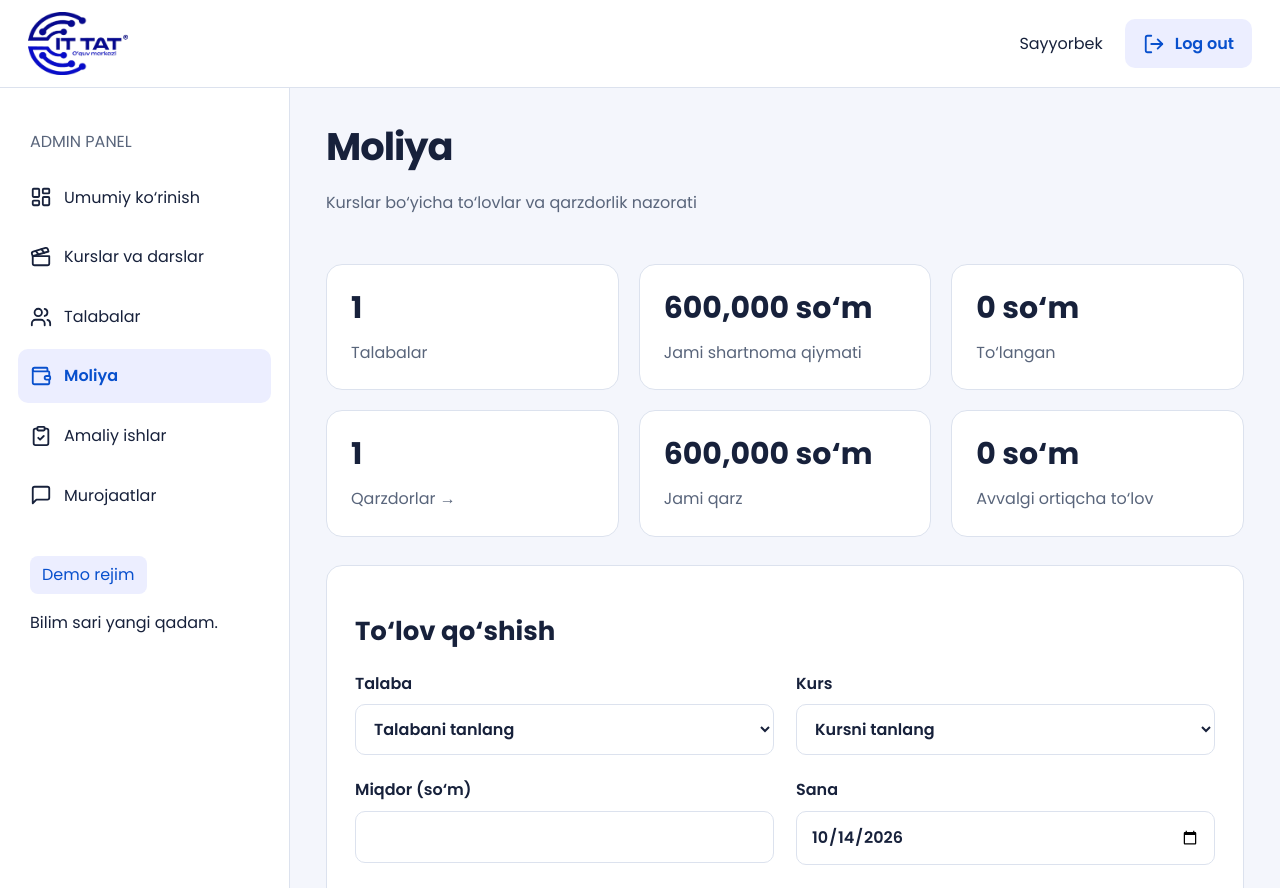
Test: finance debtor button displays all debtors and personal links
Click the button "1 Qarzdorlar →".
click(403, 499)  # box [326,410,619,537]
(page scrolled)
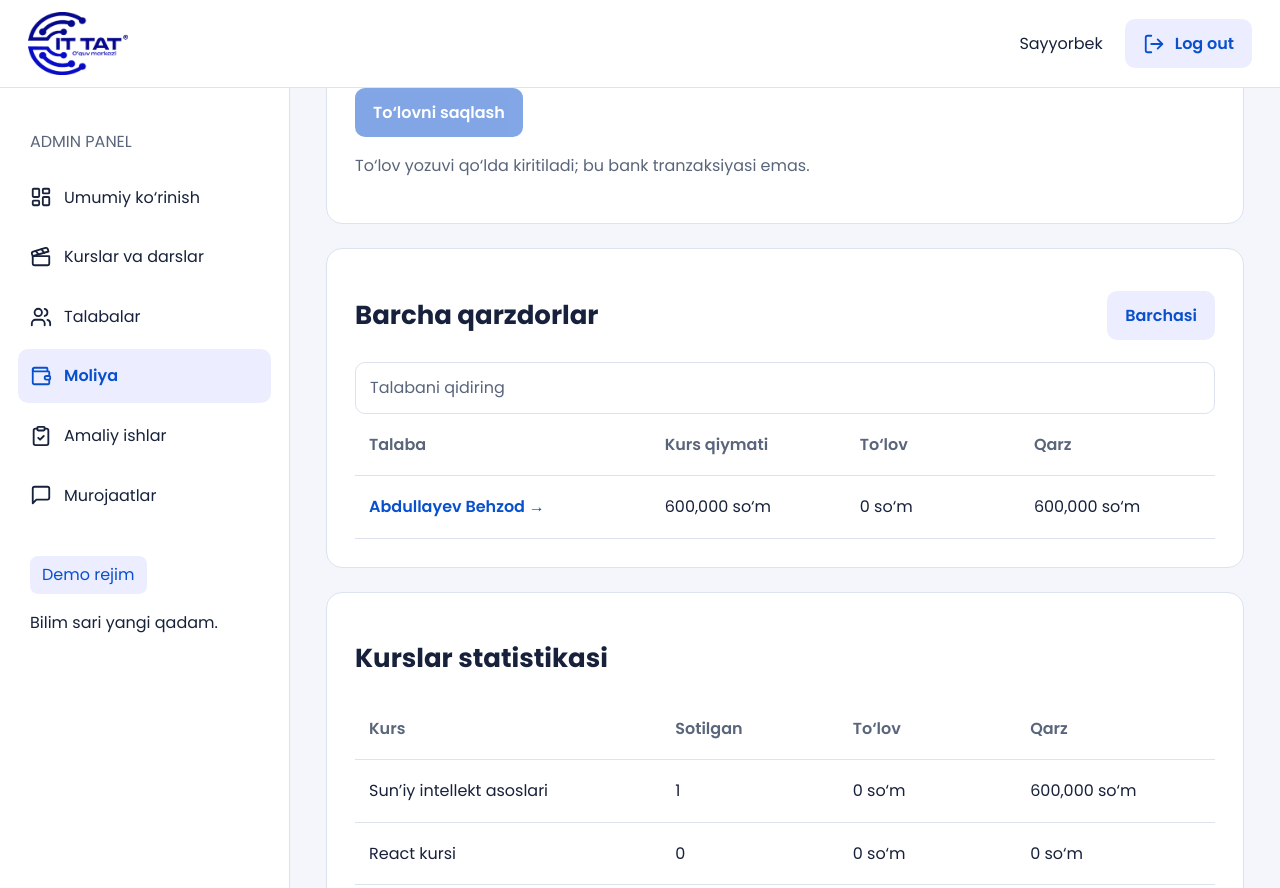
expect the link to "/admin/students/student" is shown: met, box [369,495,545,518]
expect the text "Barcha qarzdorlar" is shown: met, box [355,298,598,332]
